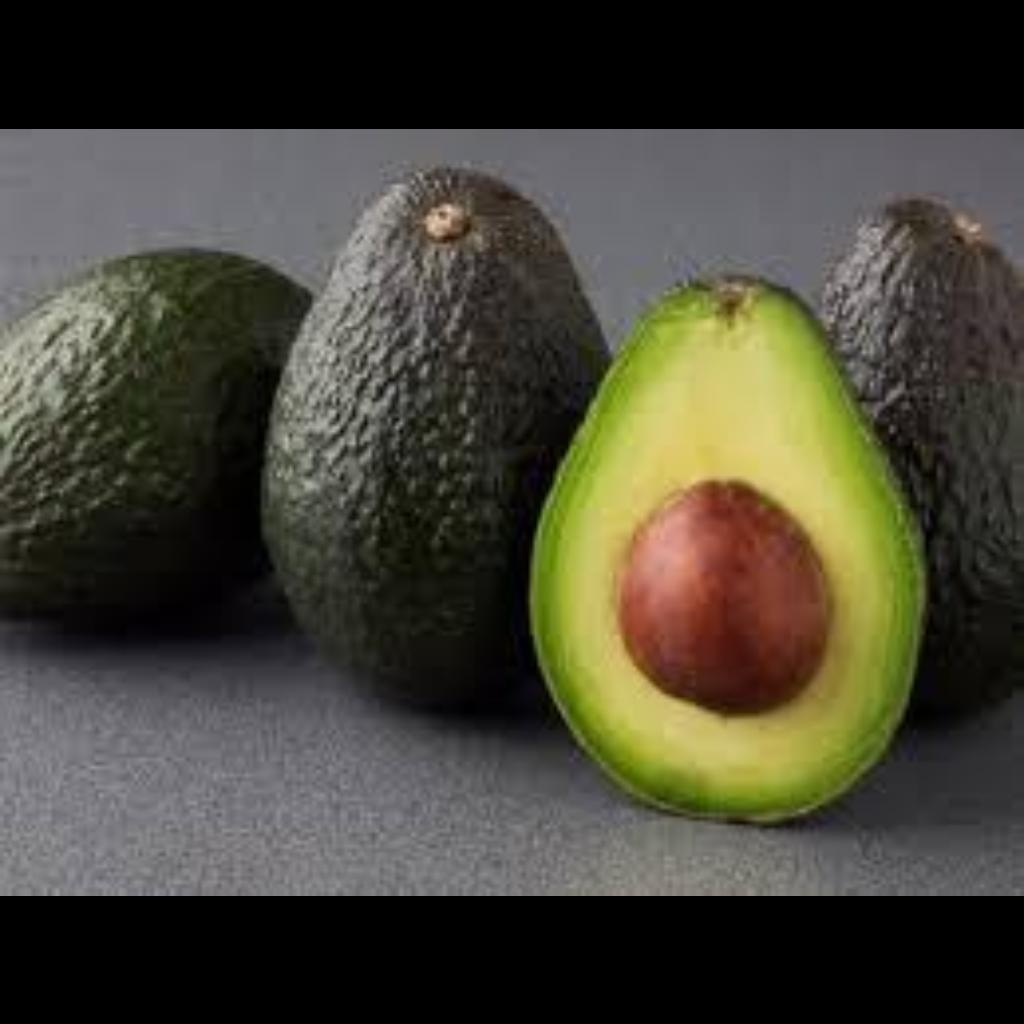Anthracnose: (316, 170, 534, 572), (8, 322, 226, 550), (840, 252, 1018, 450)
